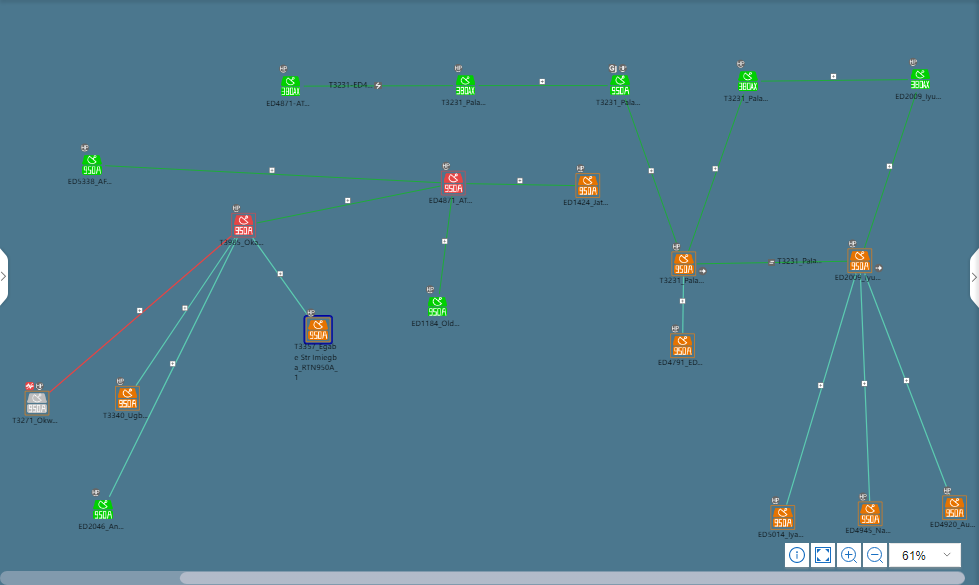Link_Blue: (107, 234, 240, 493), (866, 286, 947, 488), (132, 234, 240, 384), (786, 271, 855, 493), (254, 245, 303, 311), (860, 338, 877, 496)
Link_Green: (860, 94, 919, 251), (688, 94, 748, 242), (621, 100, 678, 245), (254, 185, 427, 224), (193, 167, 431, 181), (303, 81, 451, 92), (762, 75, 907, 86), (480, 81, 606, 92), (437, 198, 451, 280), (694, 259, 780, 270)
Link_Red: (46, 234, 228, 389)
RTN_Gray: (28, 393, 50, 416)
RTN_Green: (278, 75, 301, 98), (609, 75, 632, 98), (83, 155, 106, 178), (425, 296, 448, 319), (909, 69, 932, 92), (456, 75, 479, 98), (95, 497, 118, 519), (737, 69, 760, 91)
RTN_Orange: (670, 332, 699, 361), (768, 510, 797, 533), (113, 387, 142, 409), (670, 253, 699, 274), (945, 497, 968, 520), (309, 320, 332, 343), (578, 173, 601, 196), (847, 253, 869, 276), (860, 504, 881, 527)
RTN_Red: (229, 216, 259, 239), (444, 173, 467, 196)
